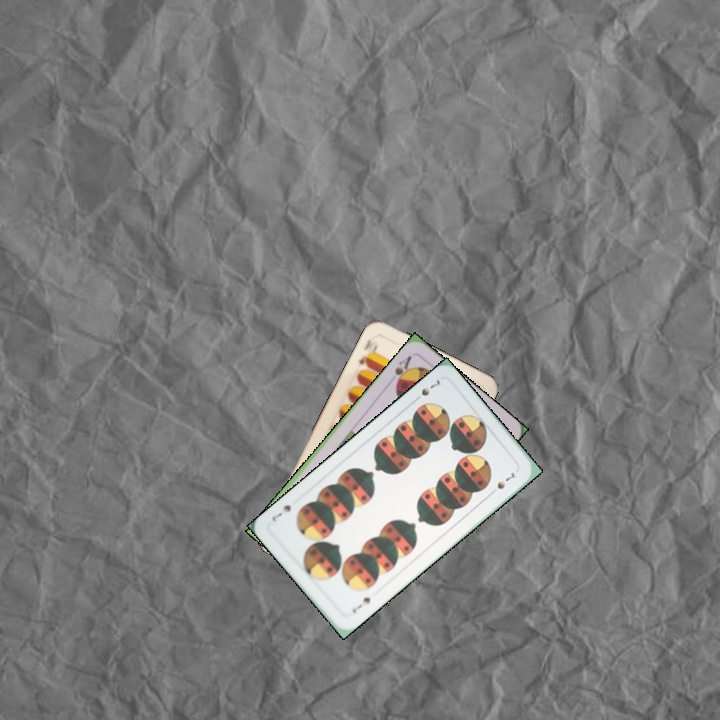E10: (354, 335, 381, 370)
S7: (409, 375, 443, 405), (348, 593, 373, 616)
SA: (386, 352, 414, 389)
